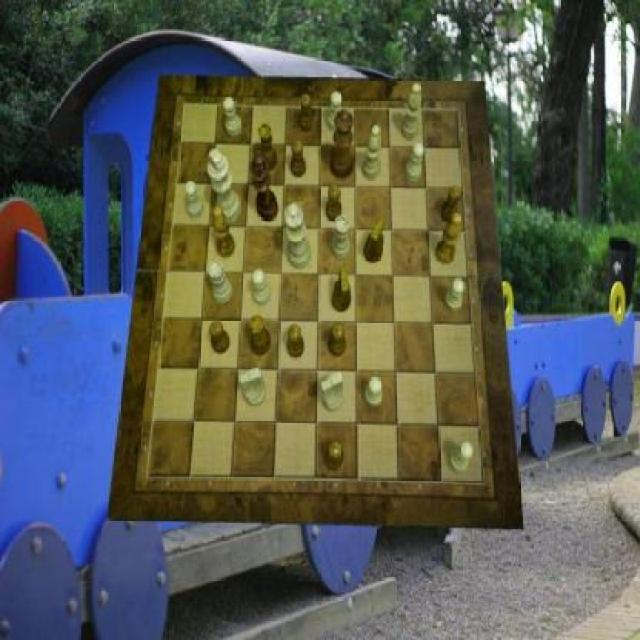bishop: (437, 212, 461, 265), (212, 206, 235, 259)
black-bishop: (251, 150, 280, 222)
black-king: (364, 217, 386, 262), (332, 268, 352, 313)
black-knight: (442, 186, 462, 222), (211, 322, 231, 356), (290, 140, 306, 178), (298, 94, 314, 132), (288, 324, 305, 358), (328, 323, 345, 357), (326, 184, 342, 220), (326, 440, 344, 471)
black-pawn: (331, 109, 354, 180)
black-queen: (249, 315, 272, 357), (258, 124, 278, 170)
black-rook: (402, 84, 422, 140), (363, 125, 383, 179)
white-bishop: (208, 149, 242, 224)
white-king: (238, 368, 266, 408), (321, 372, 344, 412)
white-knight: (449, 441, 474, 474), (404, 143, 424, 182), (223, 97, 242, 137), (252, 270, 272, 306), (446, 278, 466, 312), (328, 92, 344, 132), (185, 182, 202, 219), (365, 377, 382, 408)
white-pawn: (285, 203, 312, 269)
white-queen: (209, 260, 234, 304), (331, 215, 350, 261)
